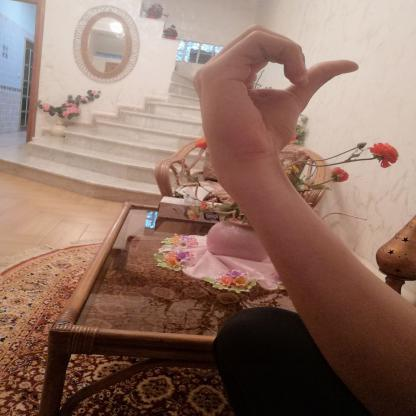WAW: (178, 19, 374, 179)
